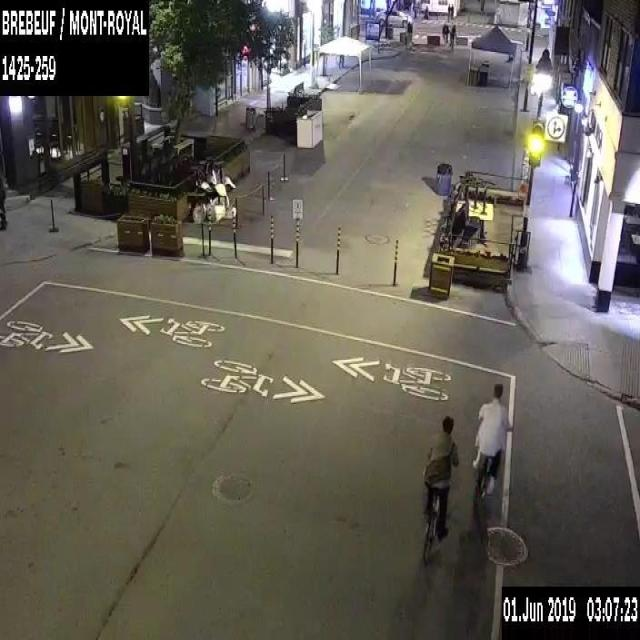cyclist: (421, 415, 459, 565), (472, 383, 512, 501)
pedestrian: (449, 23, 456, 47), (441, 23, 448, 45), (446, 3, 454, 20)
vehicle: (375, 8, 413, 26)
